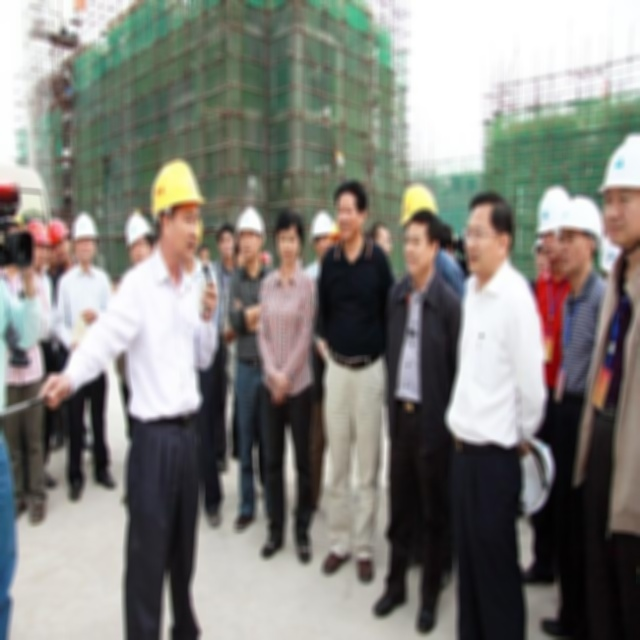Con_Casco: (150, 163, 206, 252), (237, 206, 264, 261)
Sin_Casco_Mascarrilla: (332, 182, 368, 240), (275, 210, 306, 266)
